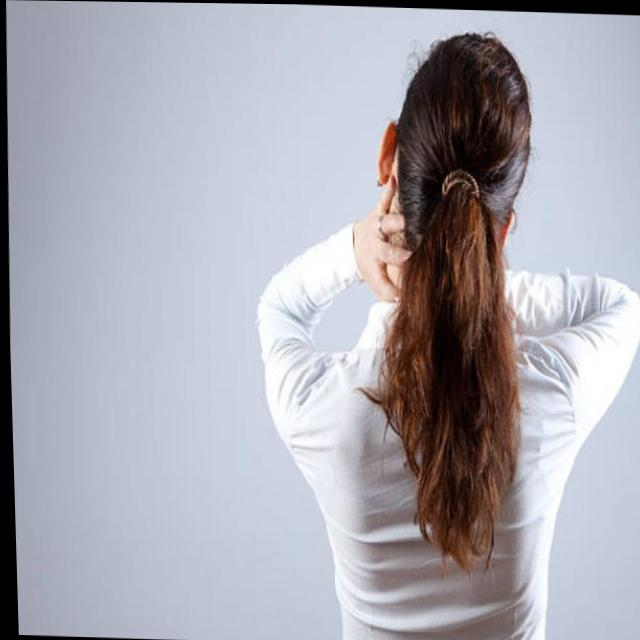no helmet: (383, 18, 540, 312)
